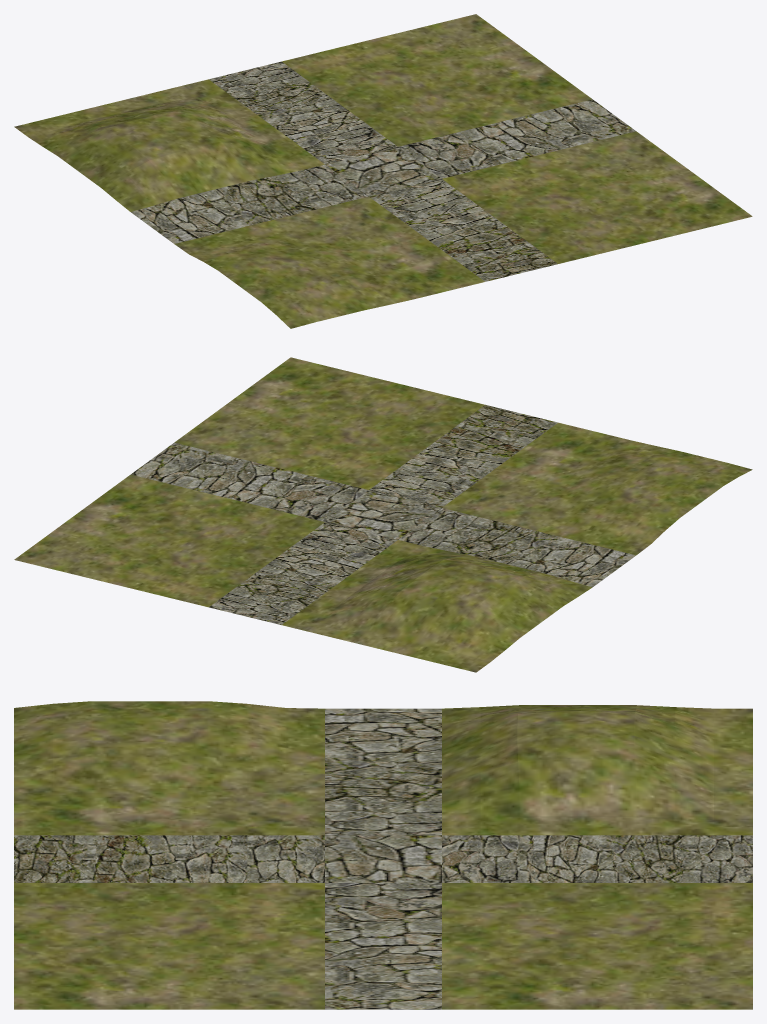
The model's file is ChaoDePedra.fbx.
3 views of the same model, one above another, from view 1: azimuth 30°, elevation 25°; view 2: azimuth 150°, elevation 25°; view 3: azimuth 270°, elevation 25° (orthographic). The views are drawn at different scales.
Parts seen in each view (by area): view 1: Plane; view 2: Plane; view 3: Plane.
Boxes of the visible parts, left/top/right/bottom form: Plane: left=14, top=14, right=752, bottom=328; Plane: left=14, top=357, right=752, bottom=672; Plane: left=14, top=701, right=752, bottom=1009.
Bounding box in the file's own units: 35200 × 1667 × 36503.
